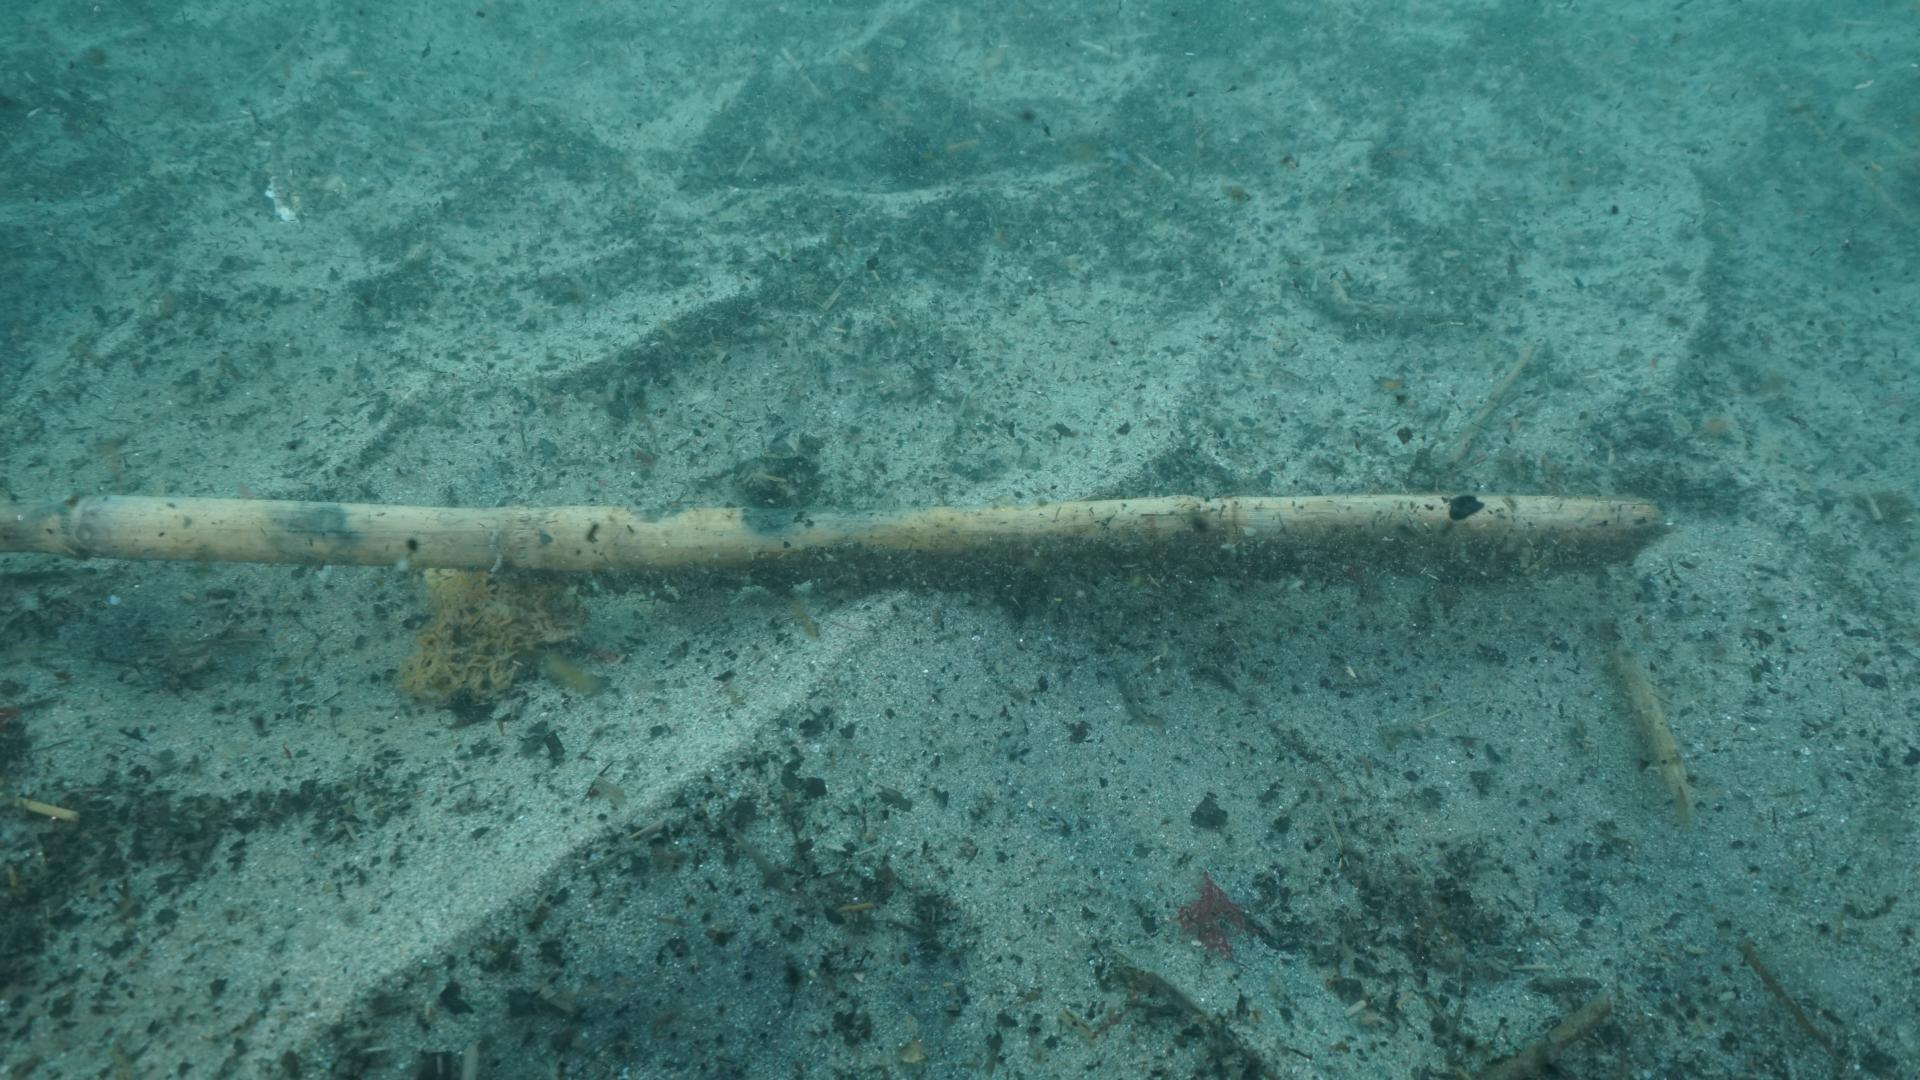wood: (0, 492, 1662, 583)
